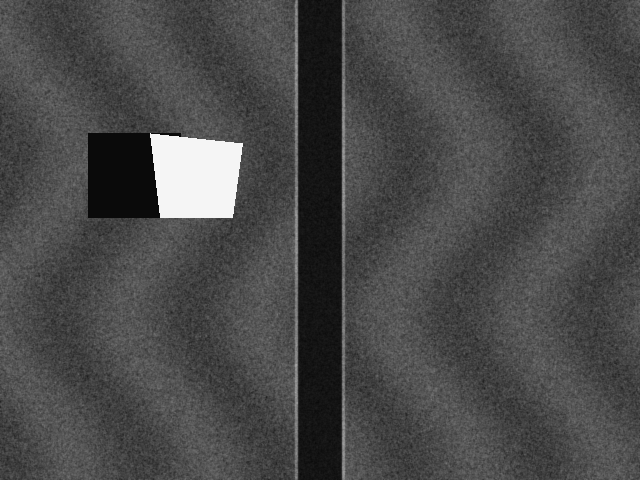Other Man-made Debris: (150, 133, 242, 217)
